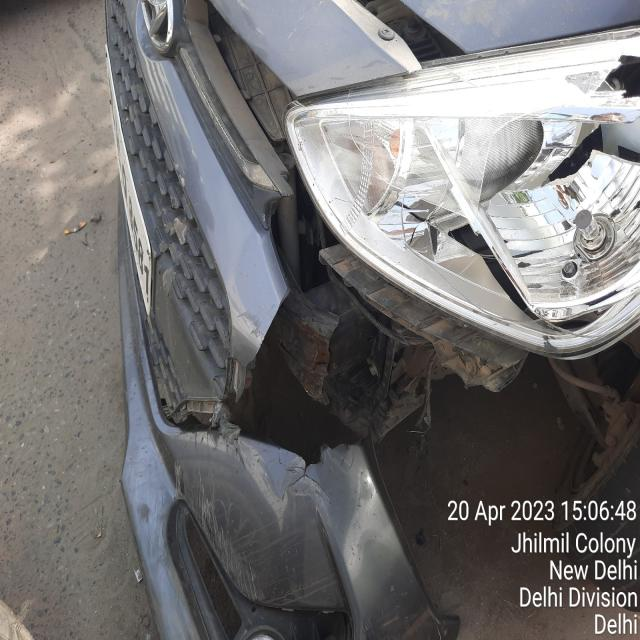damage: (182, 92, 476, 639), (273, 31, 640, 327), (299, 0, 470, 92)
